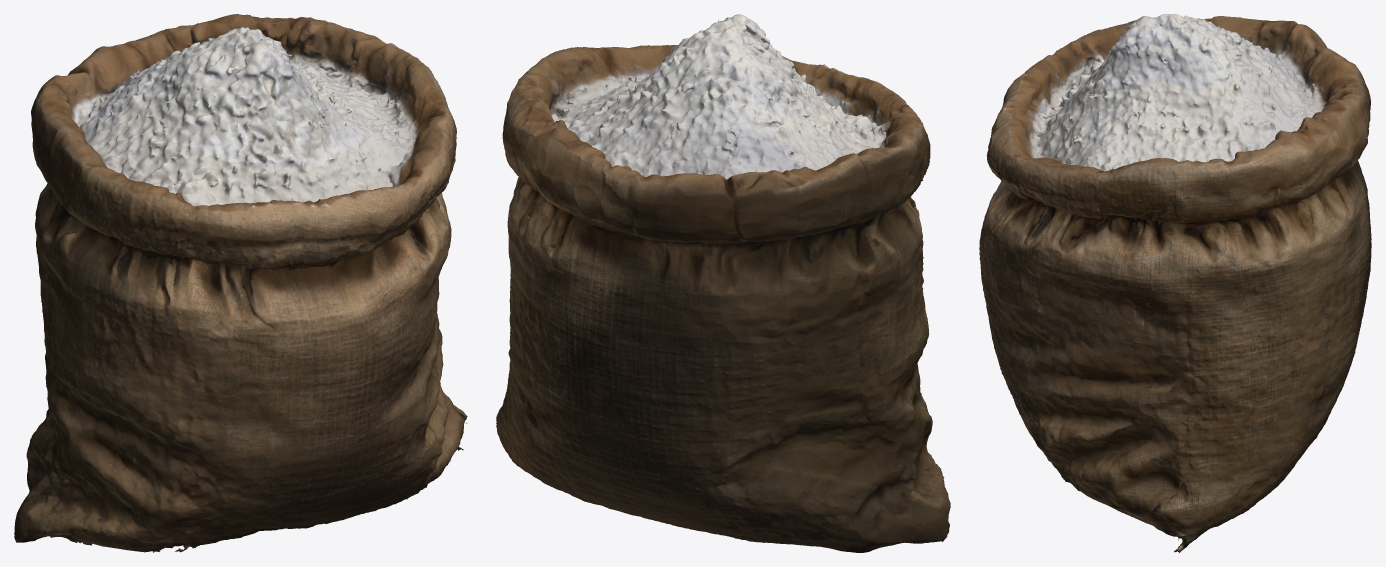
The model's file is flour.glb.
The picture shows the model from 3 angles, left to right: view 1: azimuth 30°, elevation 25°; view 2: azimuth 150°, elevation 25°; view 3: azimuth 270°, elevation 25°; orthographic projection. The views are drawn at different scales.
Size of the model in its own units: 1.77 by 1.82 by 1.46.
1 material, 1 textured.
